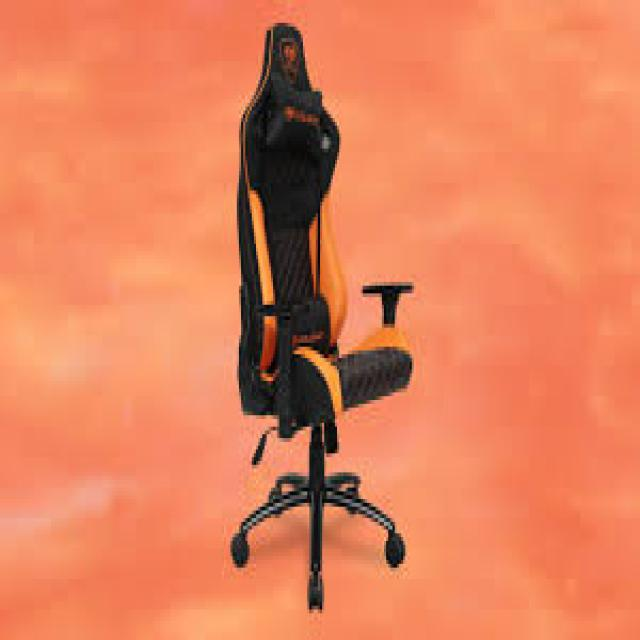chair: (145, 2, 451, 640)
